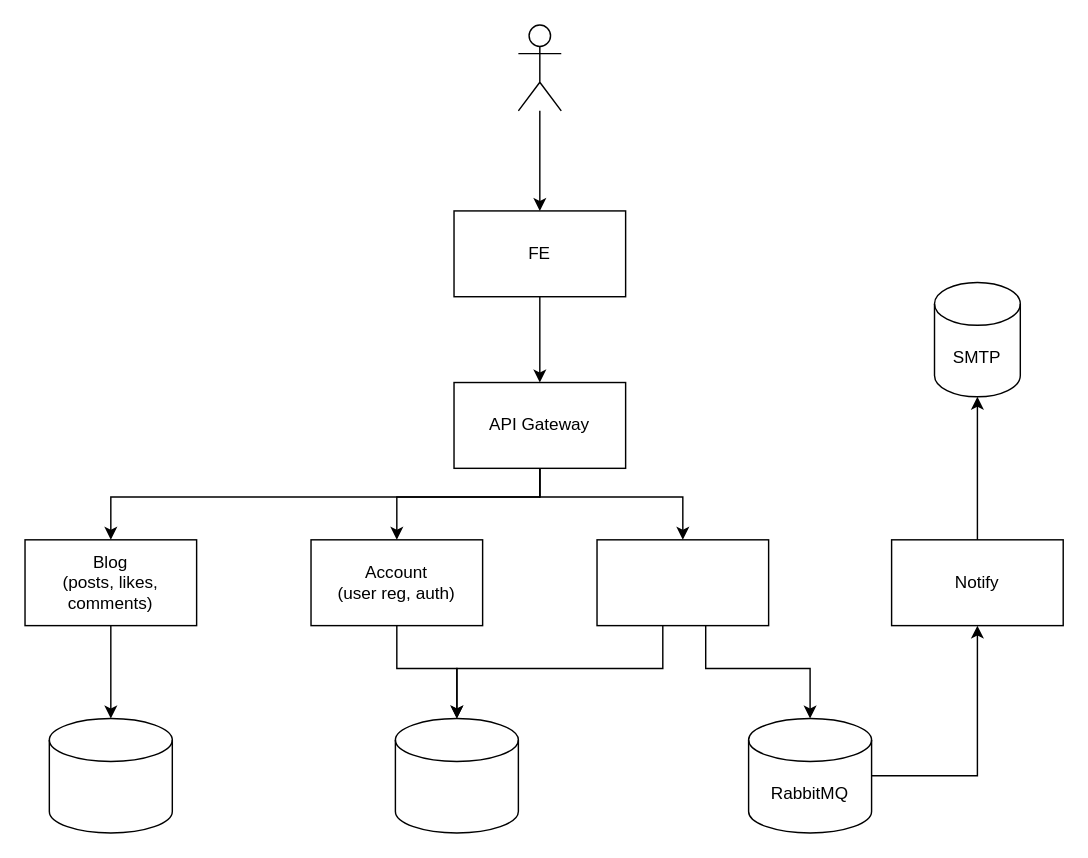
Some shapes in this 1088 by 858 pixel diagram are drawn without their labels. The shapes that lost their labels are listed below. From the top down, each one's centre as x and y in pixels, then its label:
the point at 682,582: Chat
the point at 110,775: PostgreSQL
the point at 456,775: MongoDB
